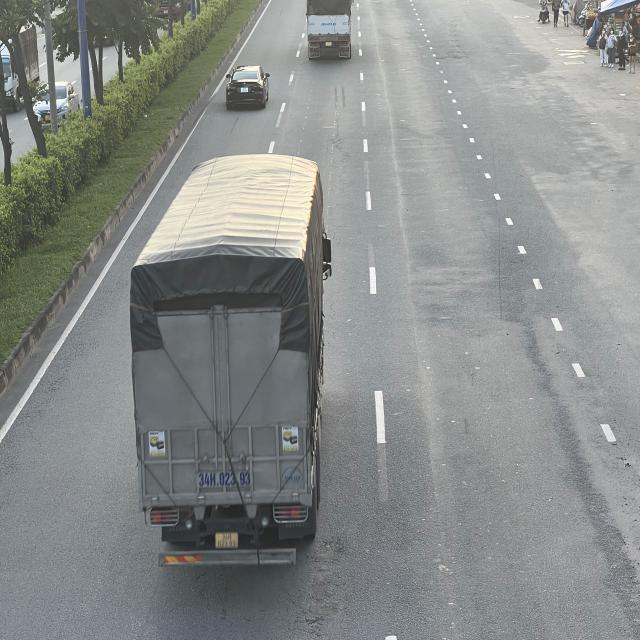car: (224, 64, 269, 108)
truck: (128, 152, 331, 573), (306, 0, 352, 59)
